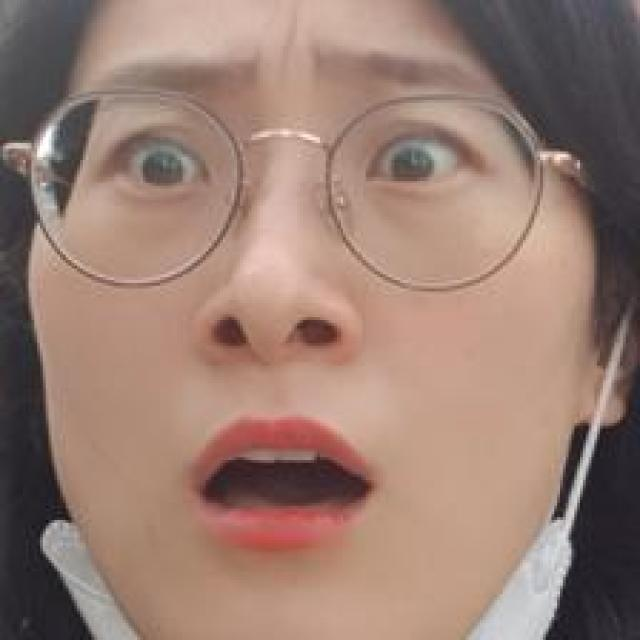fear: (23, 25, 586, 632)
